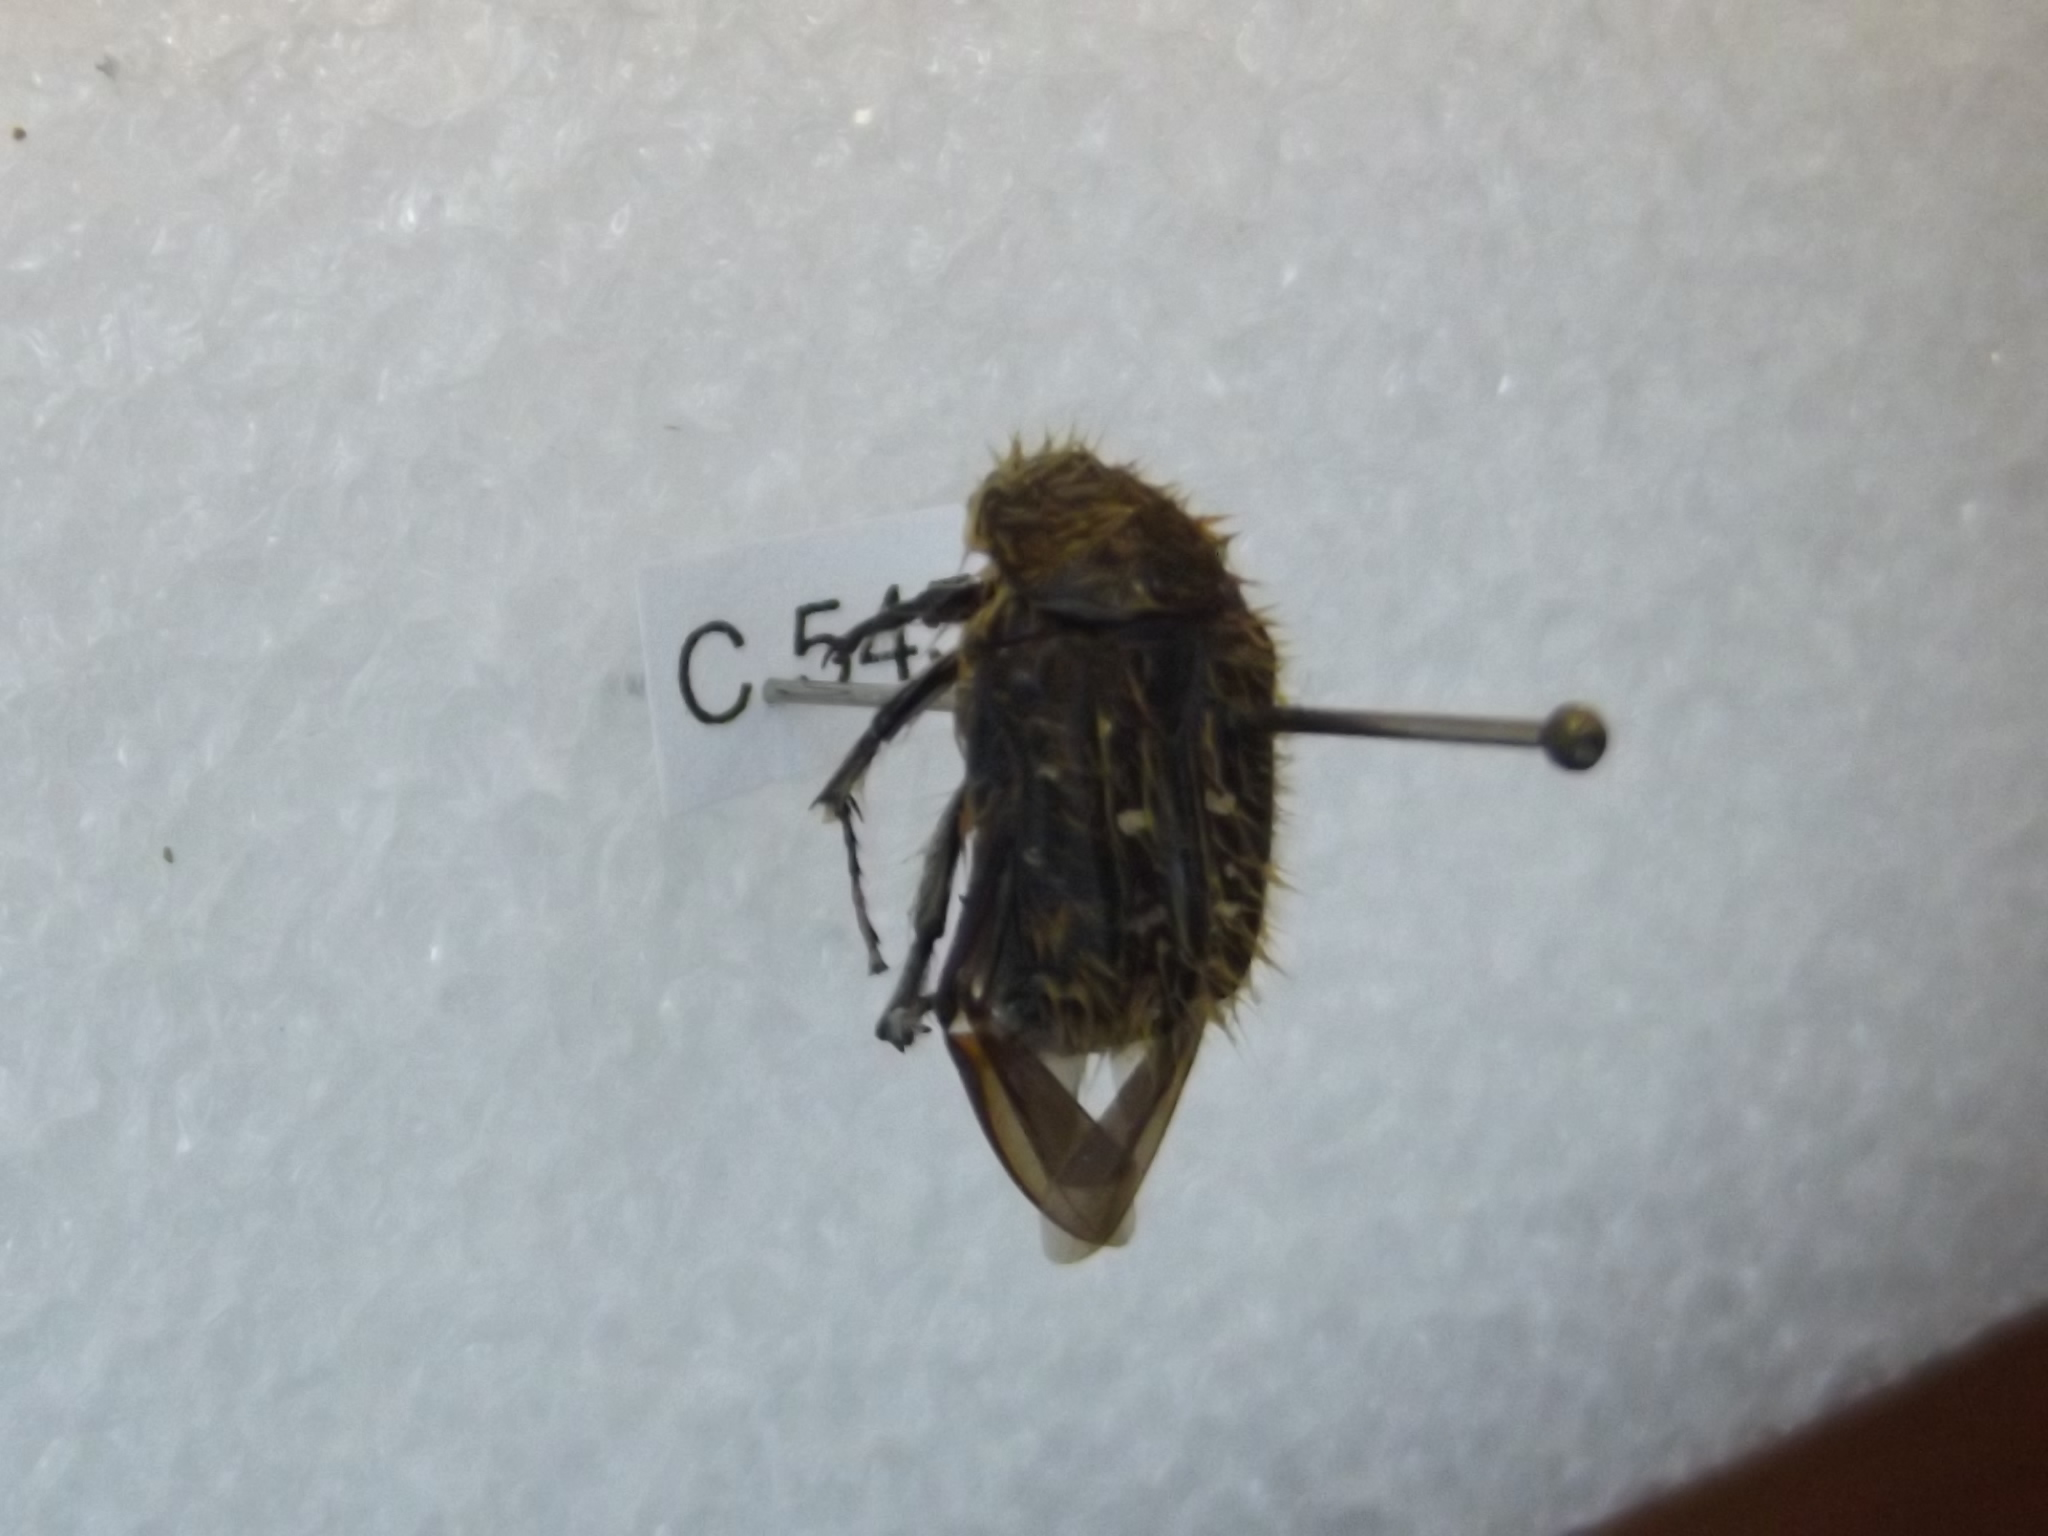Tropinota_hirta: (806, 411, 1321, 1300)
